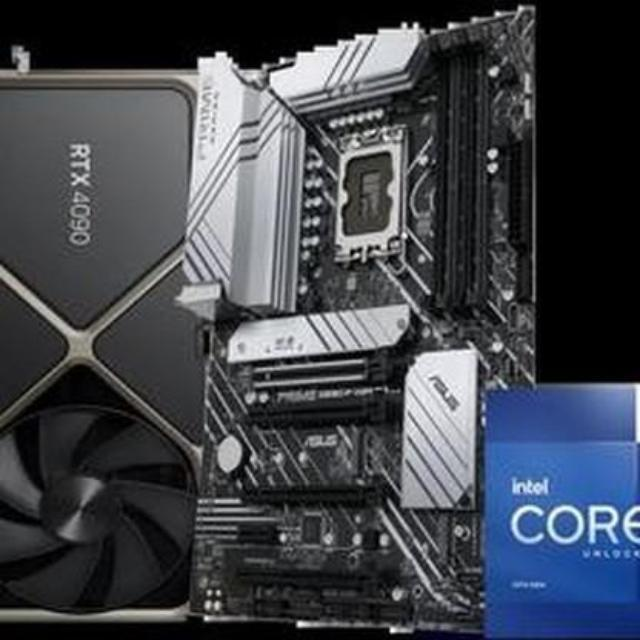Mainboard: (180, 1, 548, 630)
